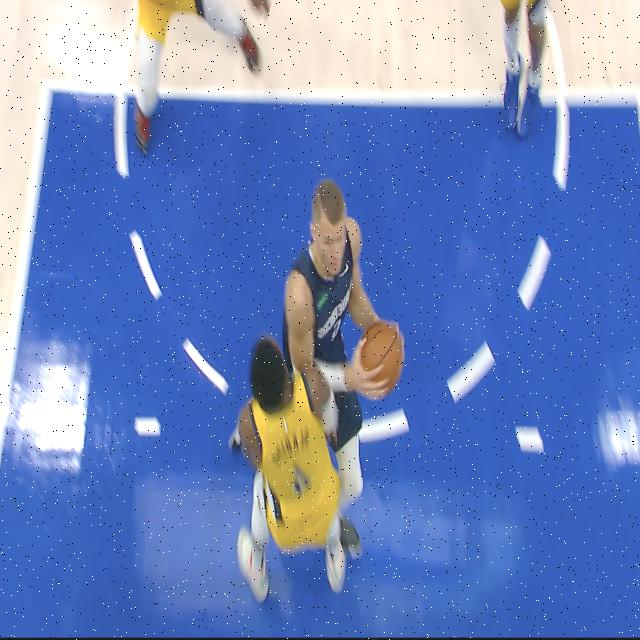Foul: (220, 166, 409, 614)
